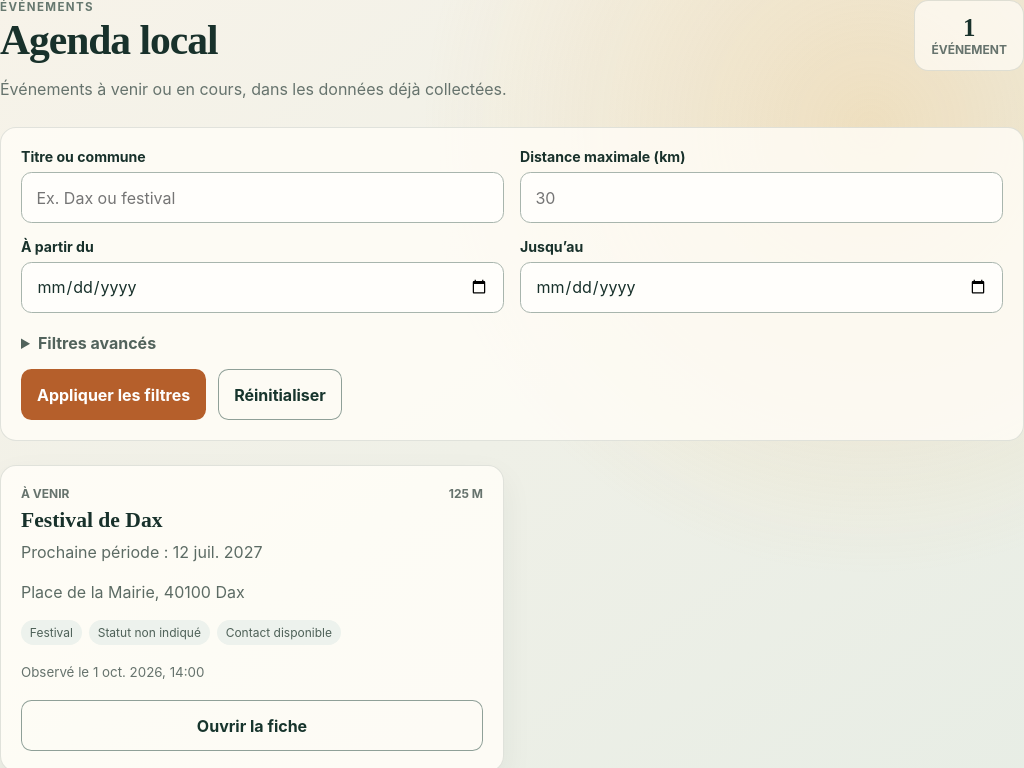
event catalogue › renders external descriptions and unsafe links as text
This screenshot has width=1024, height=768.
expect the heading "Festival de Dax" is shown: met, box [21,508,162,532]
Click the button with aria-label "Ouvrir la fiche Festival de Dax". click: (252, 726)
box: [21,700,483,751]
(page scrolled)
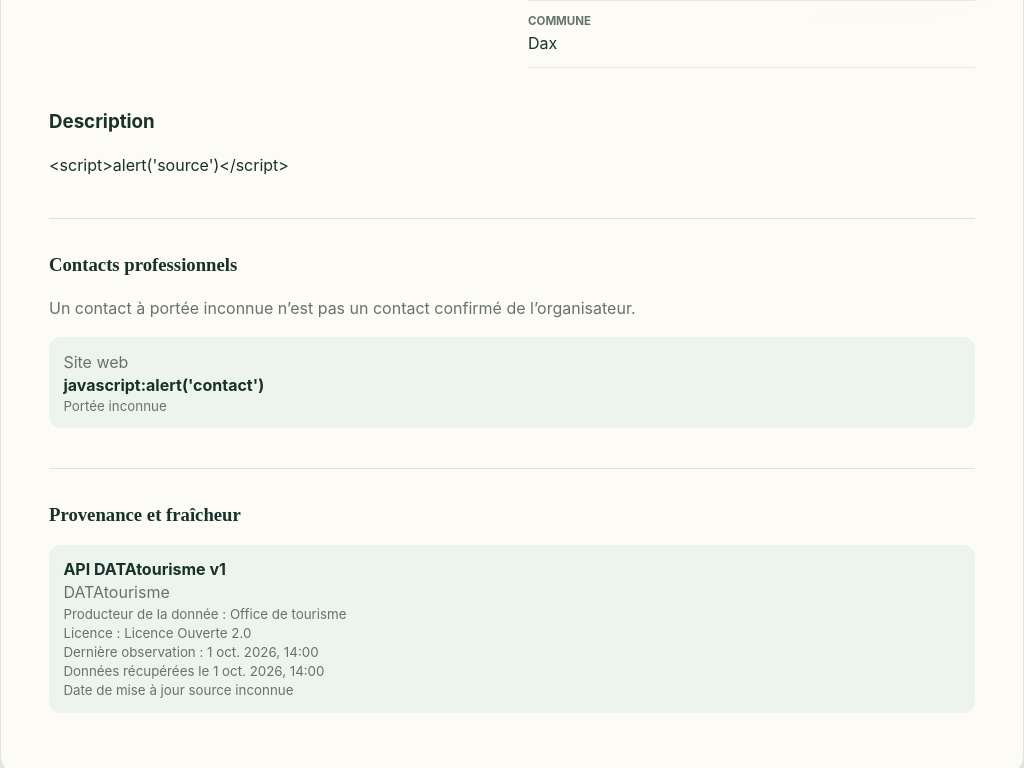
expect the text "<script>alert('source')</script>" is shown: met, box [49,155,289,175]
expect the text "javascript:alert('contact')" is shown: met, box [63,375,264,395]
